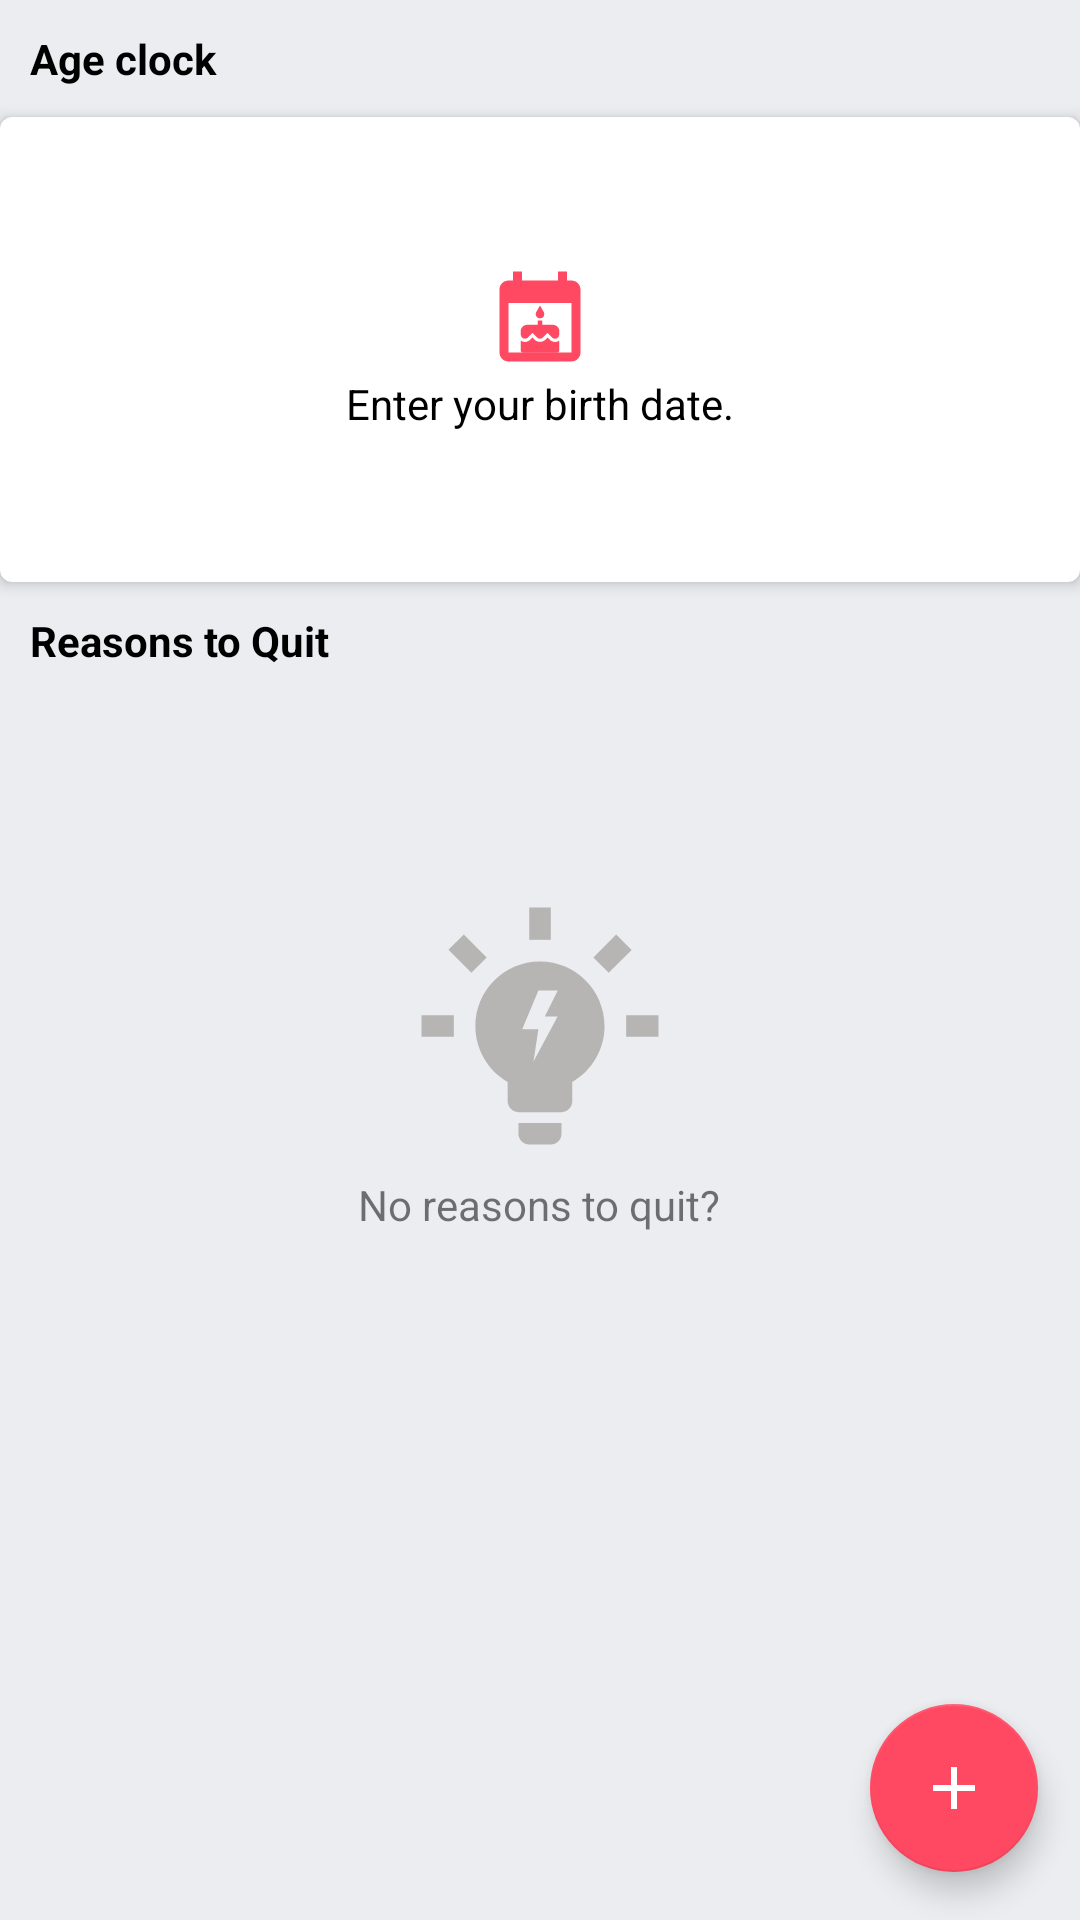

Point at icon controls on the screen. Image size 1080px x 1920px, points as point (x, y).
add: point (954, 1788)
state empty reason: point (540, 1026)
